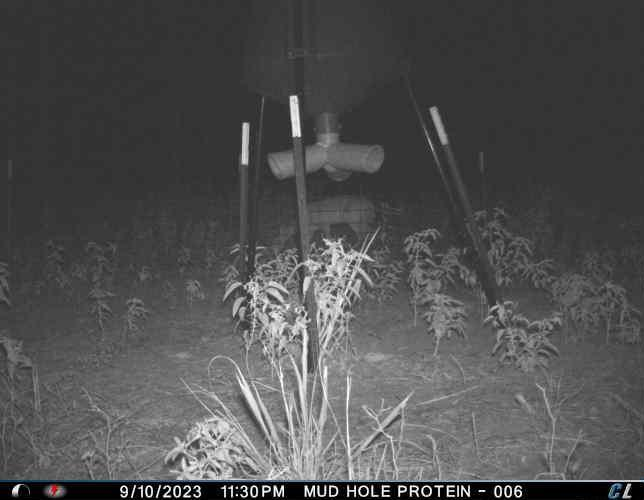Deer: (272, 190, 378, 256)
